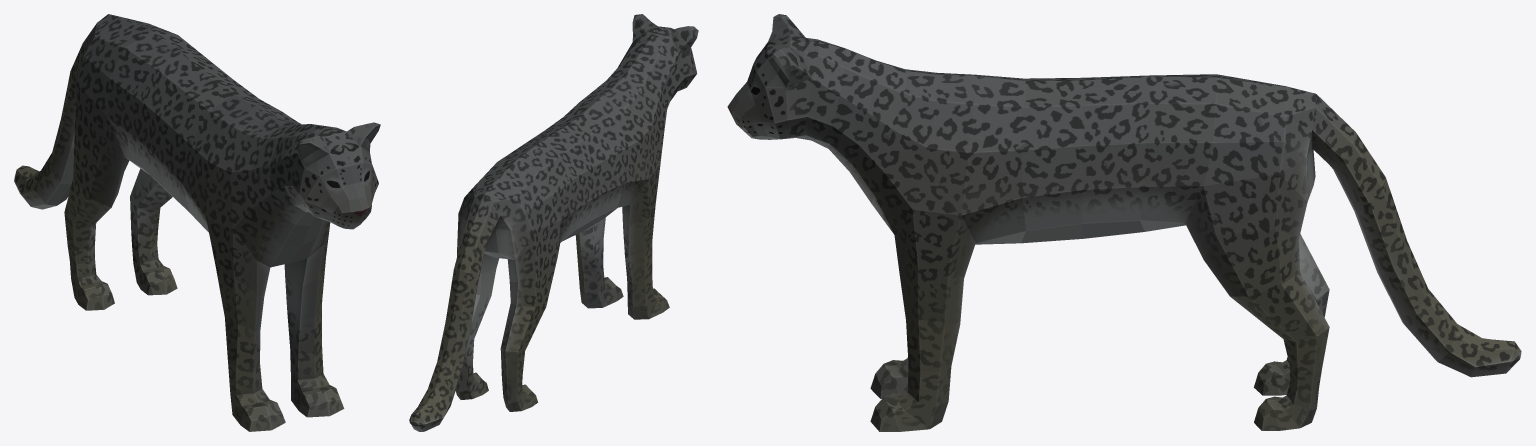
The model's file is SnowLeopard.gltf.
3 renders of one model, left to right at view 1: azimuth 30°, elevation 25°; view 2: azimuth 150°, elevation 25°; view 3: azimuth 270°, elevation 25°, orthographic. The views are drawn at different scales.
Visible parts, largest first — view 1: node-0; view 2: node-0; view 3: node-0.
Part boxes in pixels (x1=…): node-0: x1=14, y1=14, x2=380, y2=431; node-0: x1=409, y1=14, x2=698, y2=431; node-0: x1=727, y1=14, x2=1521, y2=431.
Size of the model in its own units: 1.69 by 4.67 by 9.04.
Materials: 1 (1 with a texture image).
